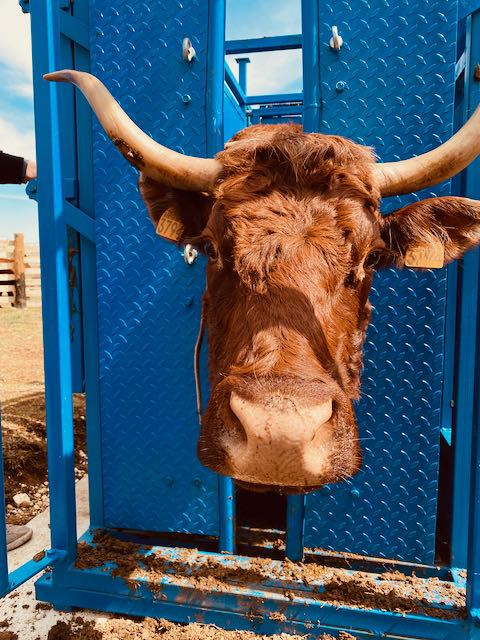muzzles: (191, 374, 367, 499)
